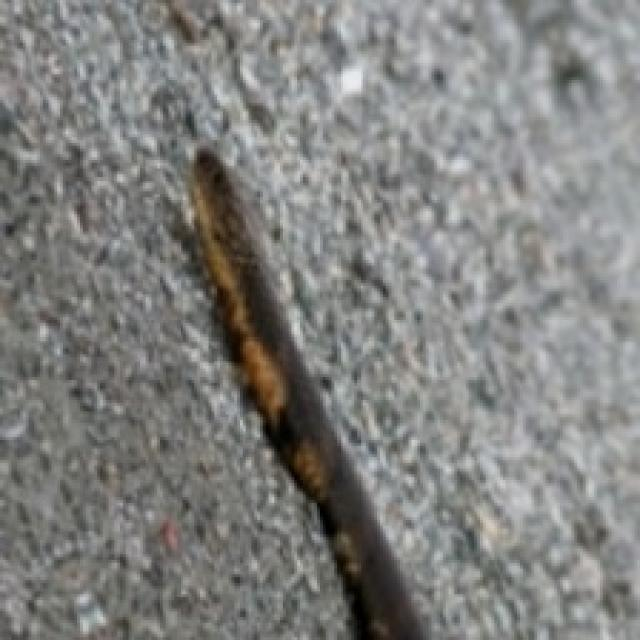king cobra: (191, 146, 426, 637)
